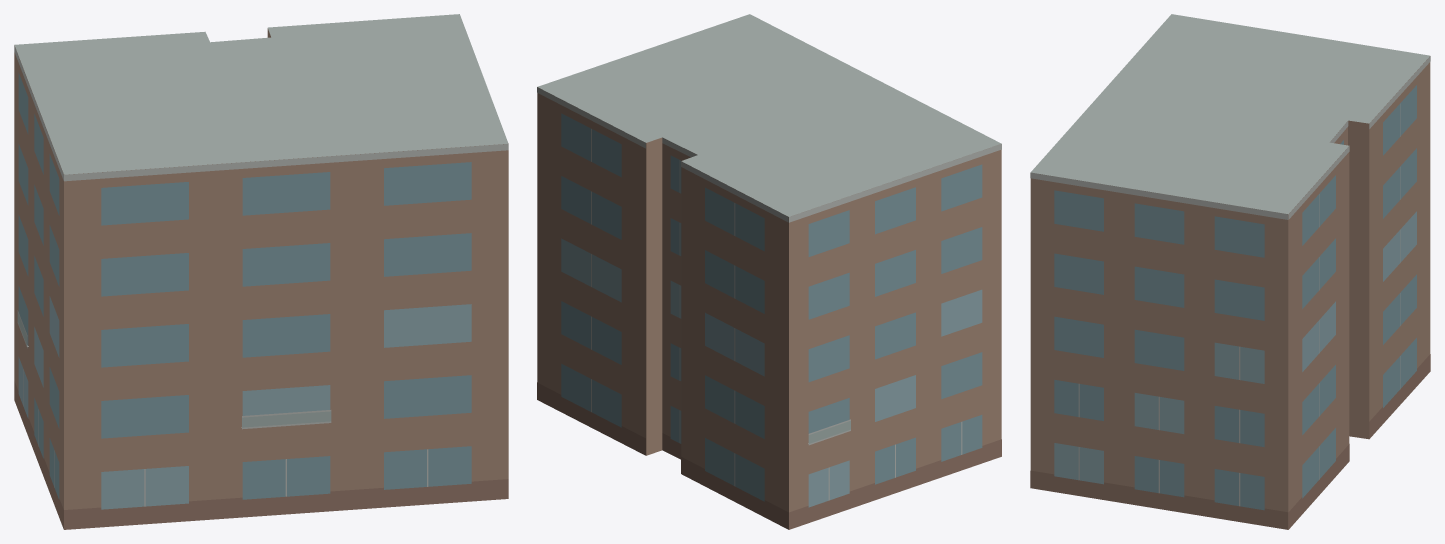
File: survey-upis-32874325.glb
The picture shows the model from 3 angles, left to right: view 1: azimuth 30°, elevation 25°; view 2: azimuth 150°, elevation 25°; view 3: azimuth 270°, elevation 25°; orthographic projection. The views are drawn at different scales.
Parts seen in each view (by area): view 1: survey-upis-32874325.tmp; view 2: survey-upis-32874325.tmp; view 3: survey-upis-32874325.tmp.
Boxes of the visible parts, bbox=[...] form: survey-upis-32874325.tmp: bbox=[14, 14, 508, 529]; survey-upis-32874325.tmp: bbox=[537, 14, 1001, 529]; survey-upis-32874325.tmp: bbox=[1030, 14, 1430, 529].
Size of the model in its own units: 17.96 by 13.2 by 15.17.
